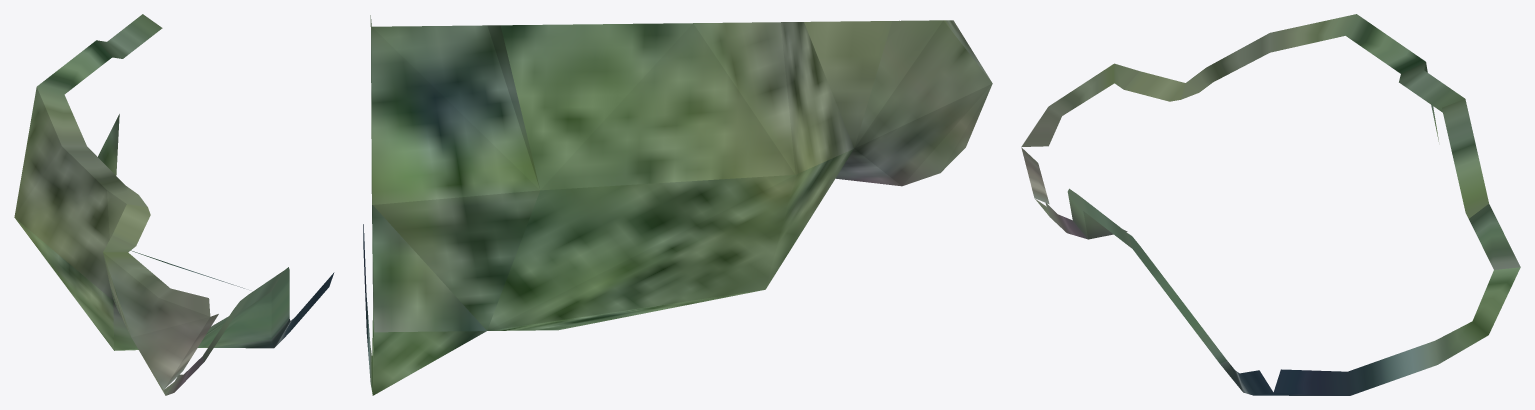
The picture shows the model from 3 angles, left to right: view 1: azimuth 30°, elevation 25°; view 2: azimuth 150°, elevation 25°; view 3: azimuth 270°, elevation 25°; orthographic projection. The views are drawn at different scales.
Size of the model in its own units: 6.5 by 5.48 by 8.75.
1 material, 1 textured.
